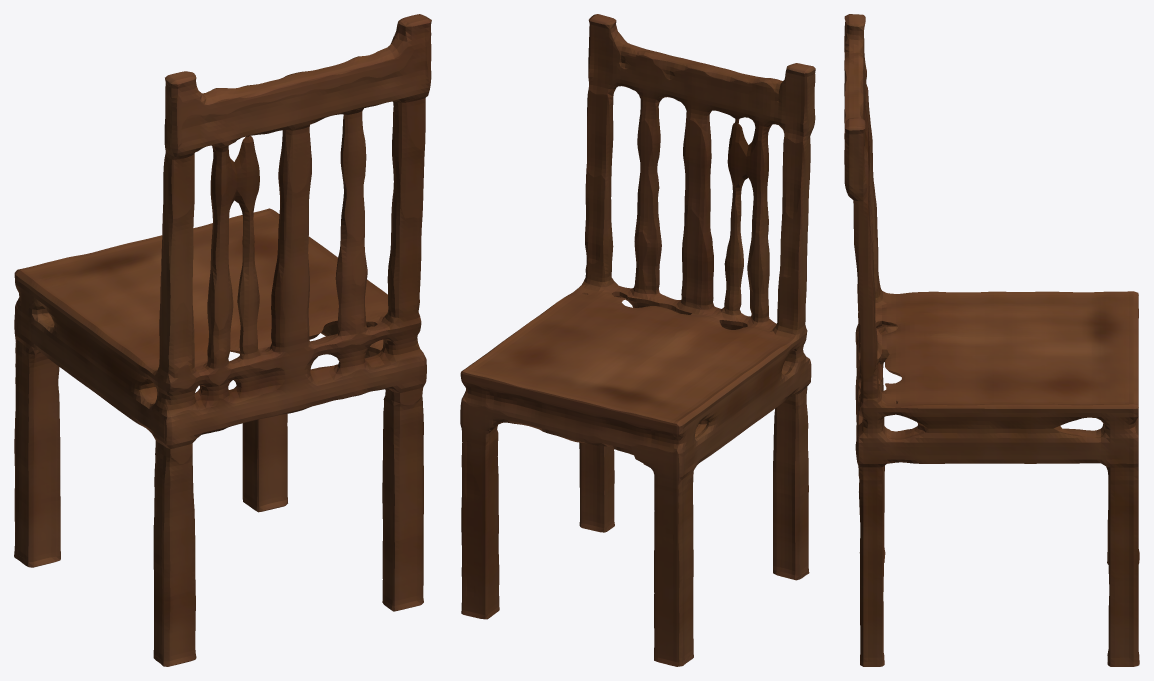
Rendered from awoodenchair.glb.
The picture shows the model from 3 angles, left to right: view 1: azimuth 30°, elevation 25°; view 2: azimuth 150°, elevation 25°; view 3: azimuth 270°, elevation 25°; orthographic projection. The views are drawn at different scales.
Parts seen in each view (by area): view 1: a wooden chair.ply; view 2: a wooden chair.ply; view 3: a wooden chair.ply.
Boxes of the visible parts, x1,y1,x2,y2 form: a wooden chair.ply: [14, 14, 431, 666]; a wooden chair.ply: [460, 14, 815, 666]; a wooden chair.ply: [844, 14, 1139, 666].
Bounding box in the file's own units: 0.9175 × 1.98 × 0.9823.
